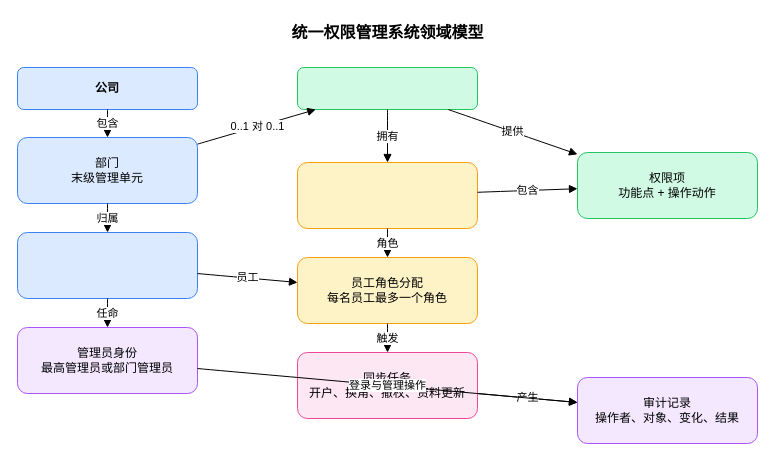
The diagram is 775 pixels wide and 461 high, and some of its shapes have lost their labels. The shapes that lost their labels are listed below. From the top down, each one's box as (x1, y1, x2, y2) in pixels, then its label:
(296, 66, 478, 110): 外部系统
(296, 162, 478, 228): 外部角色 属于一个外部系统
(16, 232, 198, 298): 员工 唯一用户名、唯一手机号
